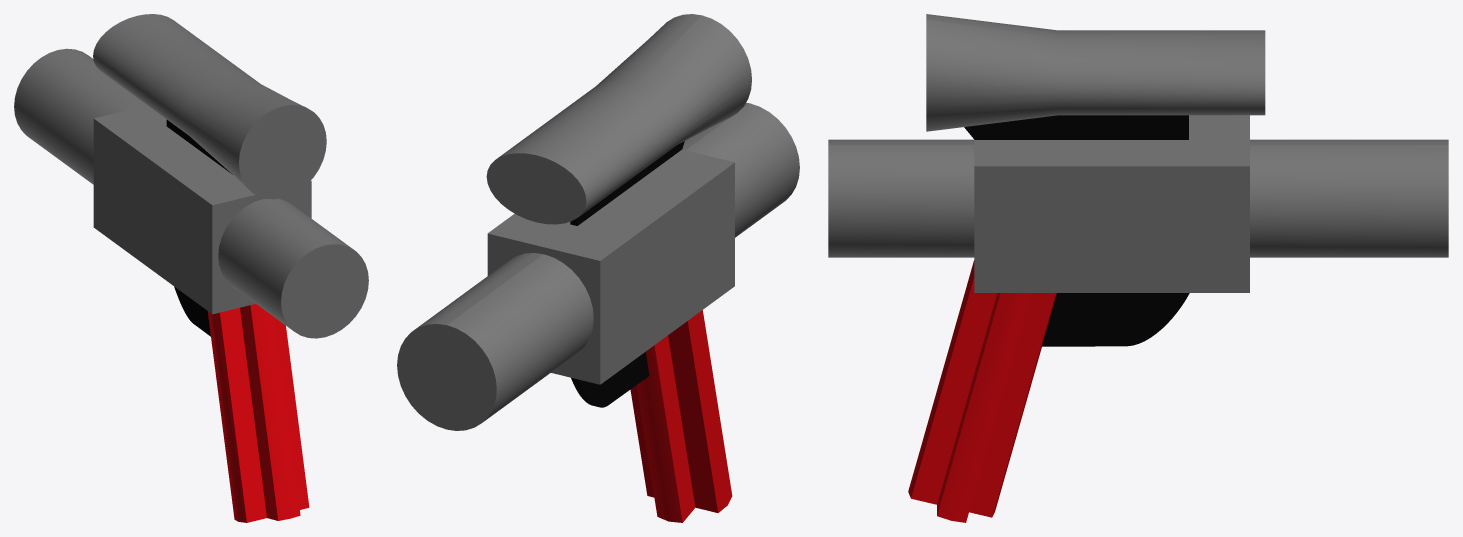
Rendered from gun(1).fbx.
3 renders of one model, left to right at view 1: azimuth 30°, elevation 25°; view 2: azimuth 150°, elevation 25°; view 3: azimuth 270°, elevation 25°, orthographic. The views are drawn at different scales.
Parts seen in each view (by area): view 1: gun; view 2: gun; view 3: gun.
Boxes of the visible parts, box(x1,y1,x2,y2) form: gun: box(14, 14, 368, 522); gun: box(397, 14, 799, 522); gun: box(828, 14, 1448, 522).
Bounding box in the file's own units: 0.1582 × 0.7365 × 0.6456.
